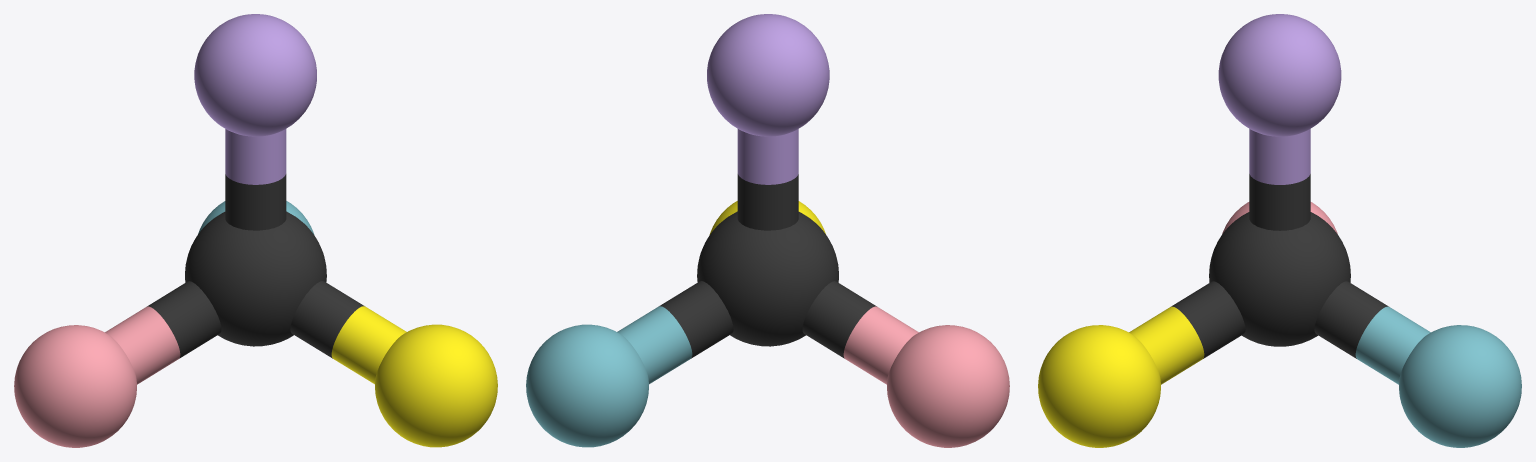
The picture shows the model from 3 angles, left to right: view 1: azimuth 30°, elevation 25°; view 2: azimuth 150°, elevation 25°; view 3: azimuth 270°, elevation 25°; orthographic projection.
Parts seen in each view (by area): view 1: 对象004; view 2: 对象004; view 3: 对象004.
Boxes of the visible parts, left/top/right/bottom form: 对象004: left=14, top=14, right=497, bottom=447; 对象004: left=526, top=14, right=1009, bottom=447; 对象004: left=1038, top=14, right=1521, bottom=447.
Size of the model in its own units: 21.23 by 20.37 by 23.59.
Materials: 5 (5 with a texture image).
